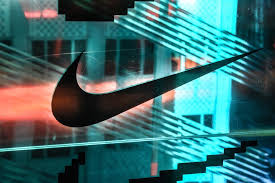nike: (33, 41, 267, 142)
